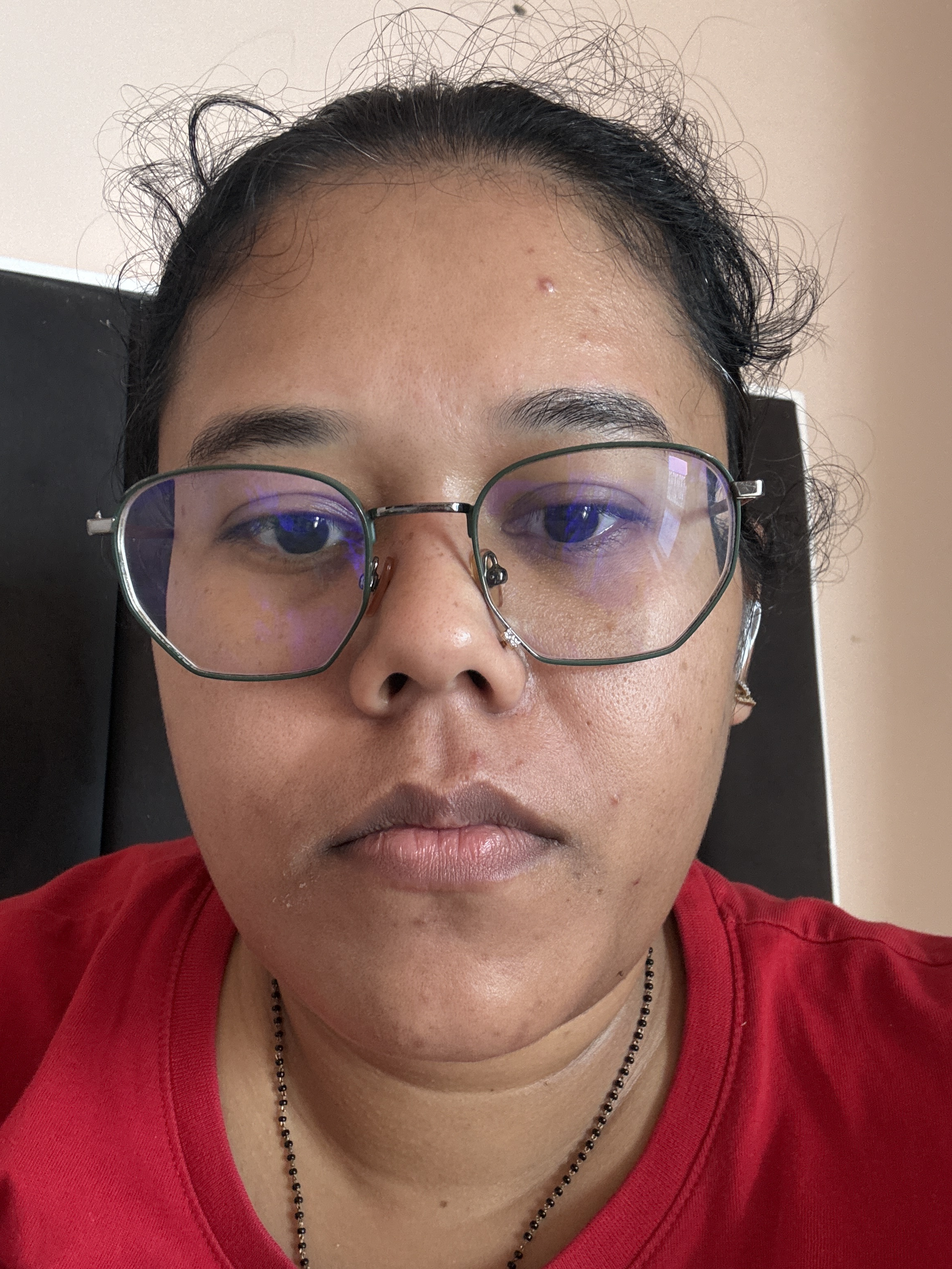cyst: (538, 278, 556, 295), (609, 793, 621, 805)
open_comedone: (386, 600, 449, 668), (449, 618, 475, 663)
papule: (473, 754, 485, 765)
